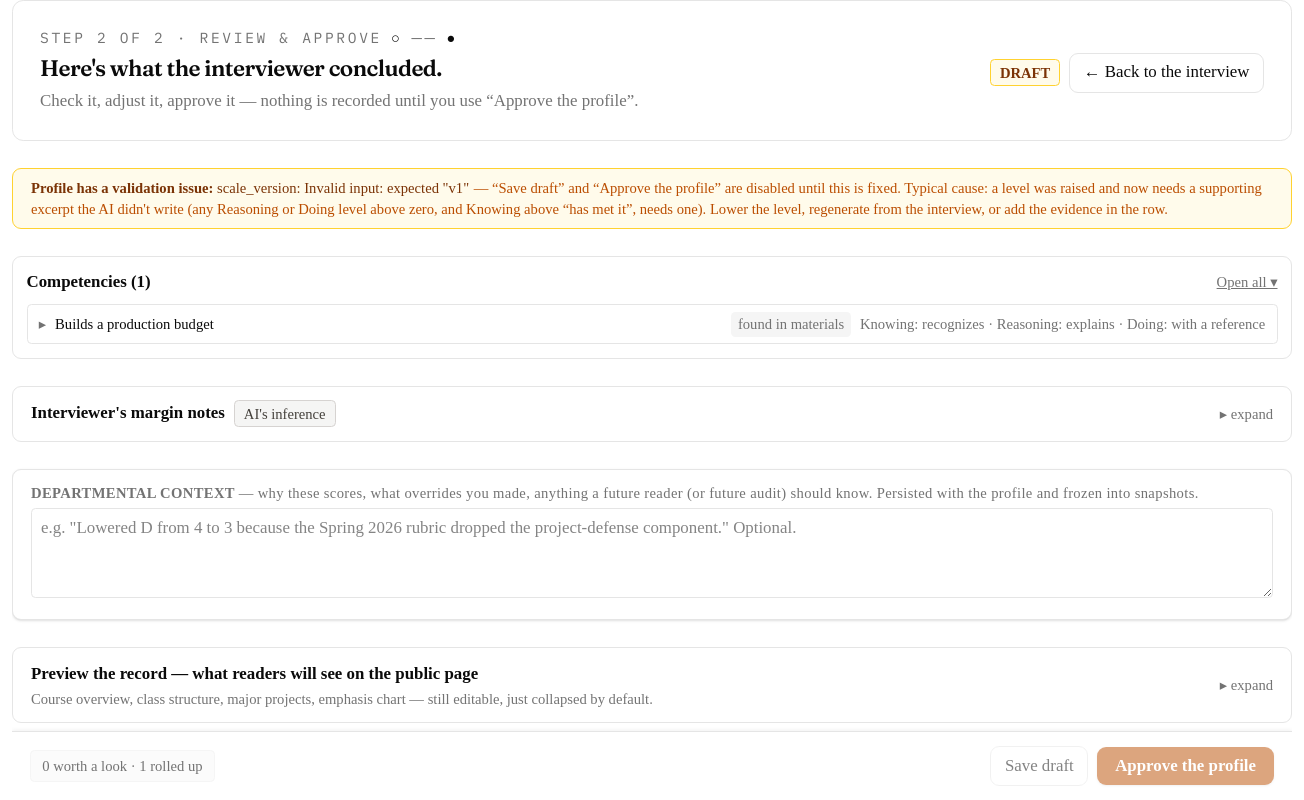
Test: review card — one plain status tag › a card citing course materials reads "From course materials"
# Rolled-up confident row → open it to see the card.
What coordinates should you click on to do the following:
click the button "Builds a production budget"
I would click on:
 (134, 324)
Its box is [26,304,1278,344].
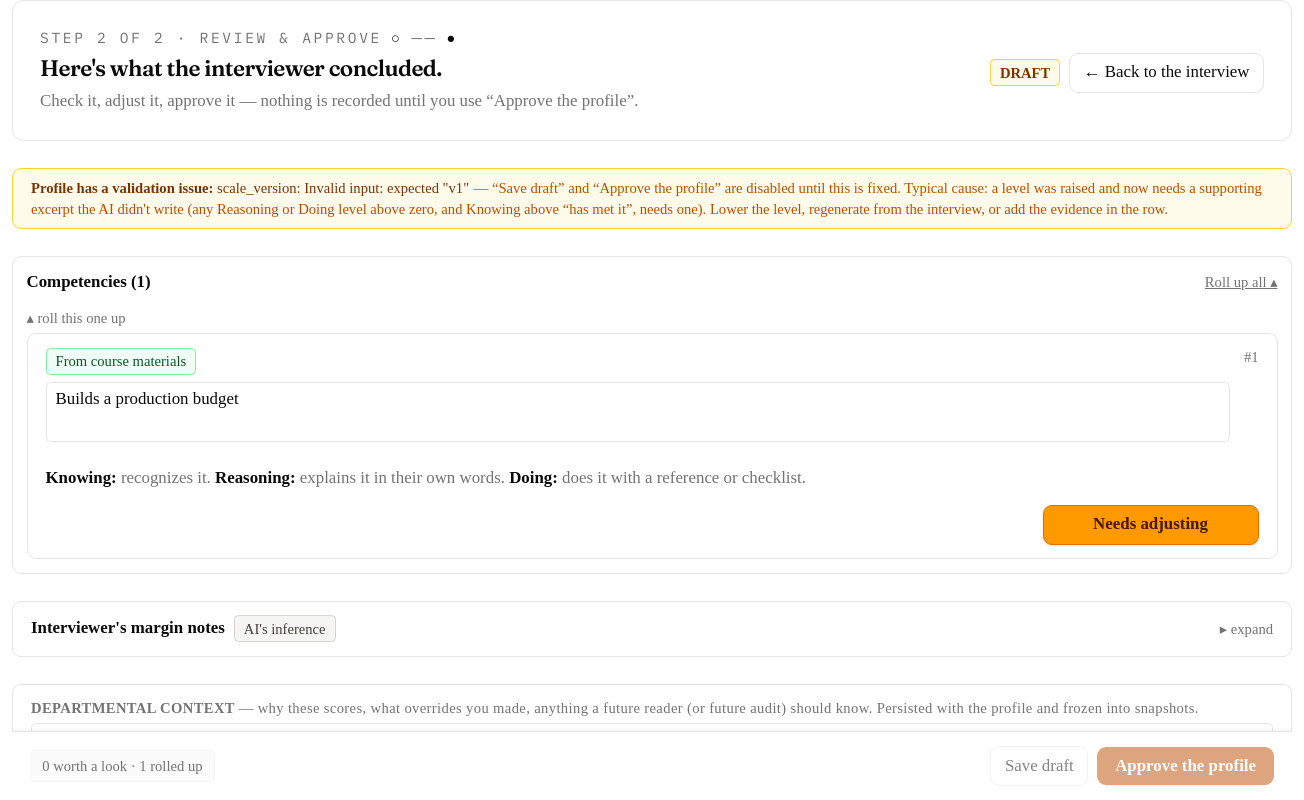
Now the button with test id "status-tag" reads "From course materials", box [46,348,196,375]
